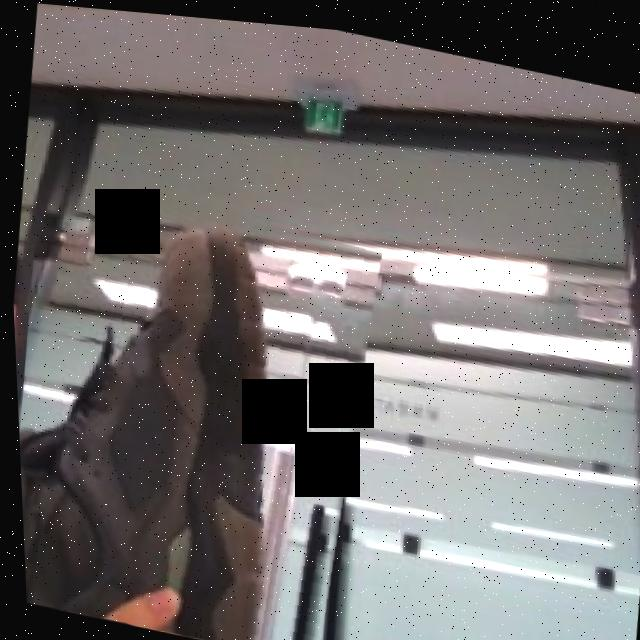shoe: (6, 163, 395, 640)
